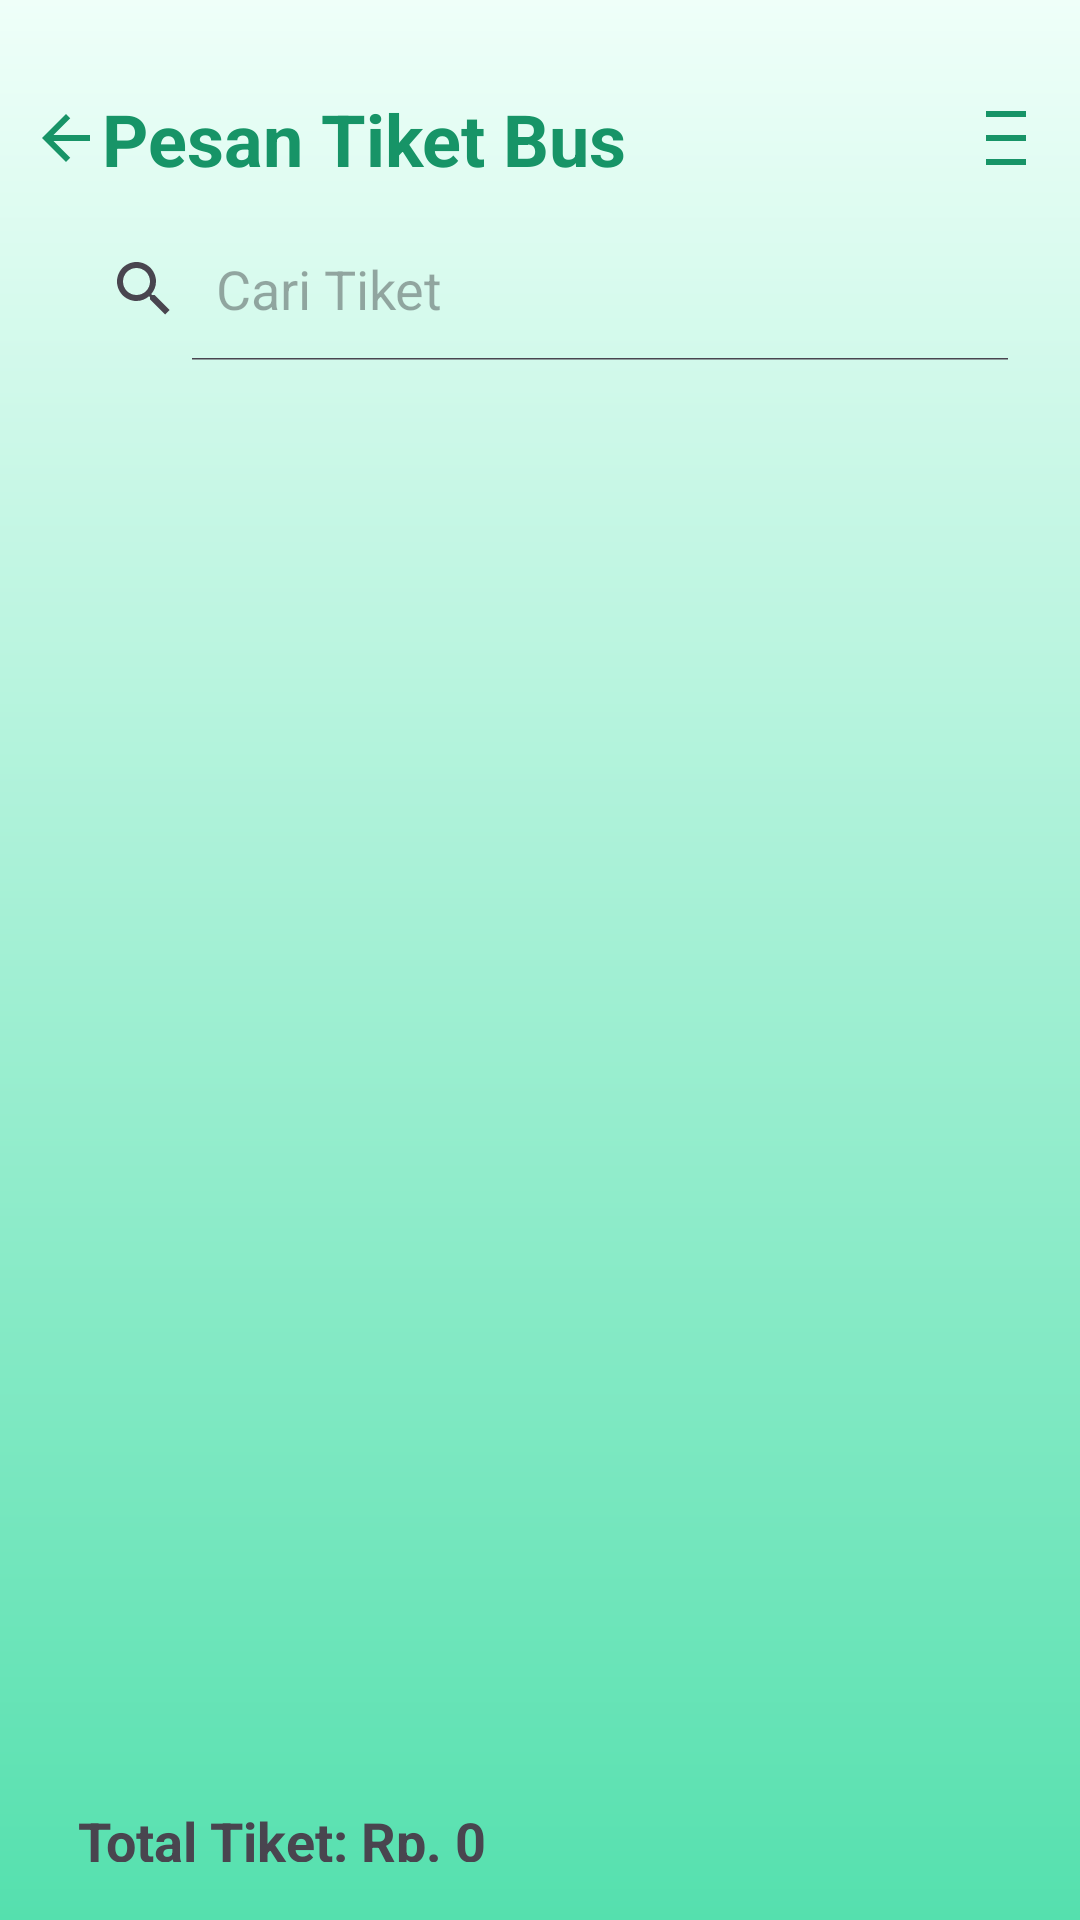

Icon click points for this 1080 x 1920 phone screenshot, format (x,y):
Kembali: (66,138)
Navigasi: (1006,138)
